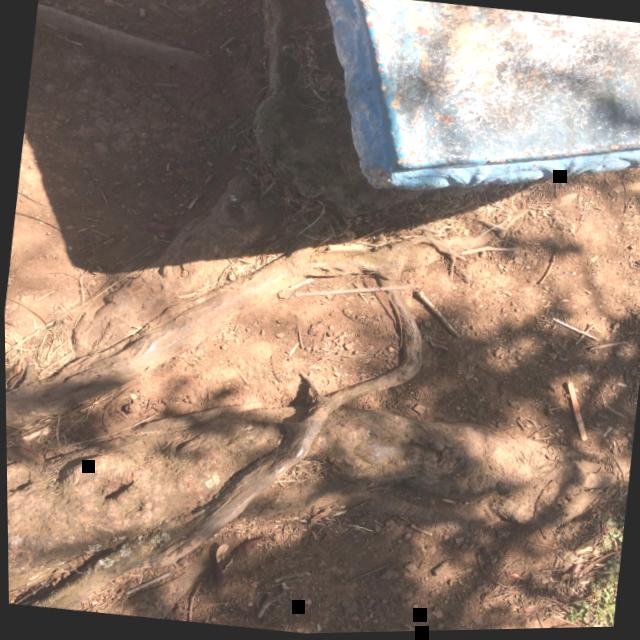Plastic straw: (293, 286, 419, 297)
Unlabeled litter: (550, 320, 596, 342)
